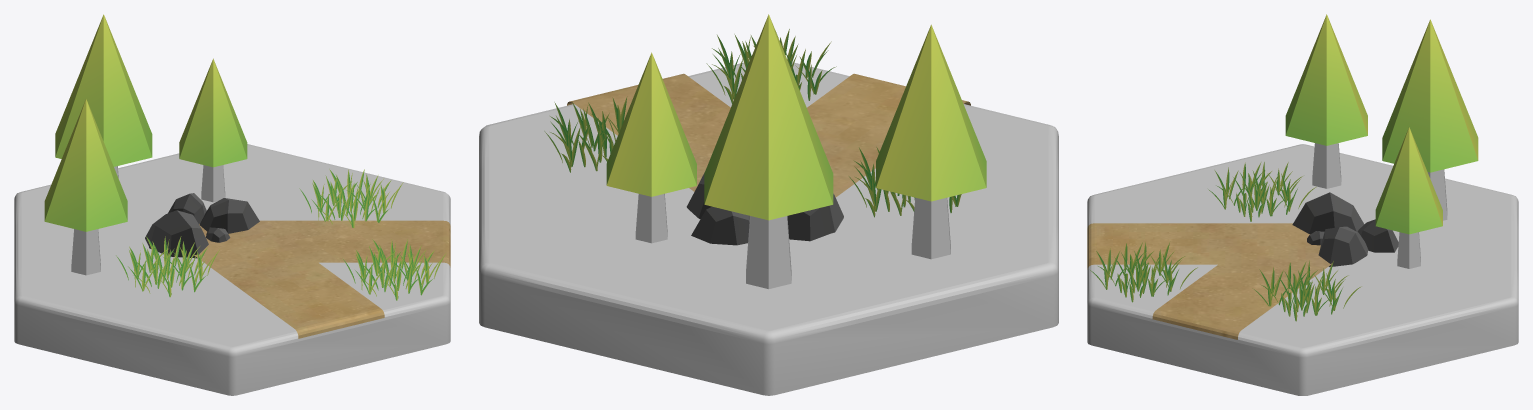
File: Road_TutType2.fbx
3 renders of one model, left to right at view 1: azimuth 30°, elevation 25°; view 2: azimuth 150°, elevation 25°; view 3: azimuth 270°, elevation 25°, orthographic. The views are drawn at different scales.
Visible parts, largest first — view 1: Object009; view 2: Object009; view 3: Object009.
Part boxes in pixels (<box>): Object009: <box>14,14,450,395</box>; Object009: <box>479,14,1058,395</box>; Object009: <box>1087,14,1518,395</box>.
Size of the model in its own units: 99.25 by 53.53 by 86.6.
